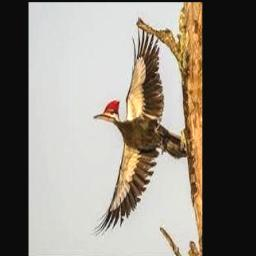Woodpecker: (91, 27, 189, 239)
